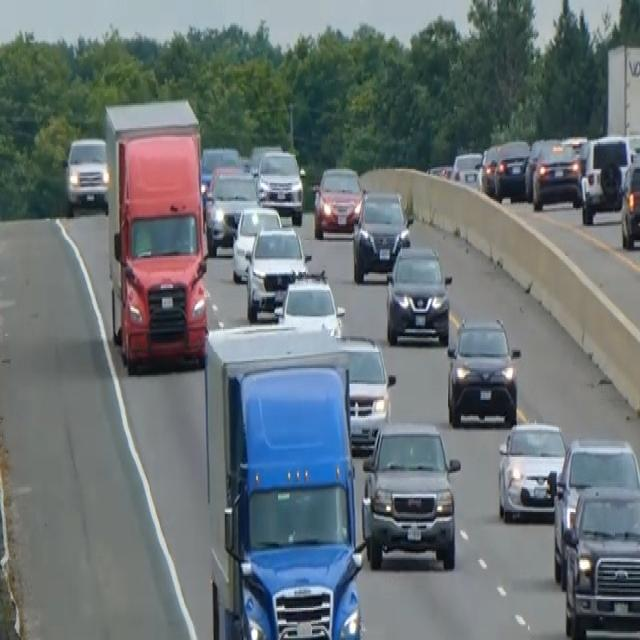car: (546, 435, 639, 585), (561, 484, 639, 638), (445, 313, 521, 427), (497, 418, 568, 522), (337, 331, 395, 452), (384, 242, 452, 345), (244, 224, 311, 322), (351, 186, 410, 282), (577, 133, 632, 224), (204, 164, 259, 254), (274, 267, 345, 334), (231, 202, 282, 282), (312, 164, 362, 238), (531, 137, 581, 210), (256, 148, 304, 224), (63, 134, 108, 214), (493, 137, 531, 201), (199, 144, 239, 194), (620, 153, 639, 249), (476, 142, 500, 196), (450, 150, 482, 190), (248, 140, 282, 176)
jeep: (360, 418, 461, 570)
lorry: (203, 320, 367, 638), (103, 96, 208, 373)
